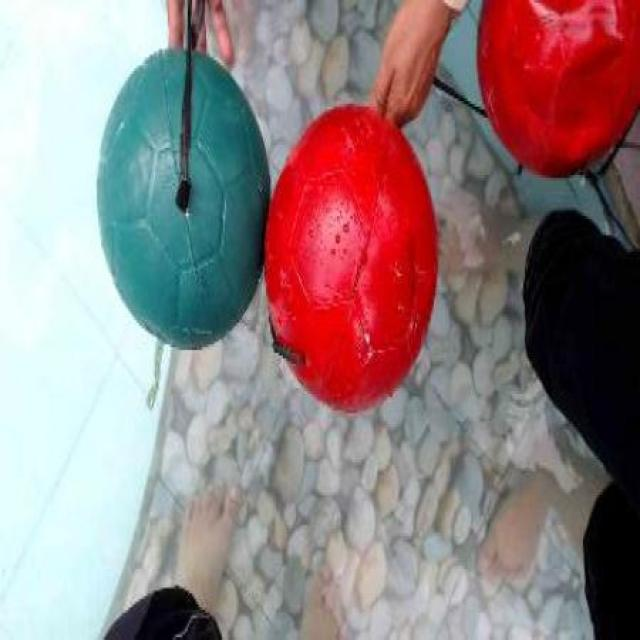buoy: (262, 102, 436, 412), (95, 48, 271, 352), (475, 2, 639, 180)
